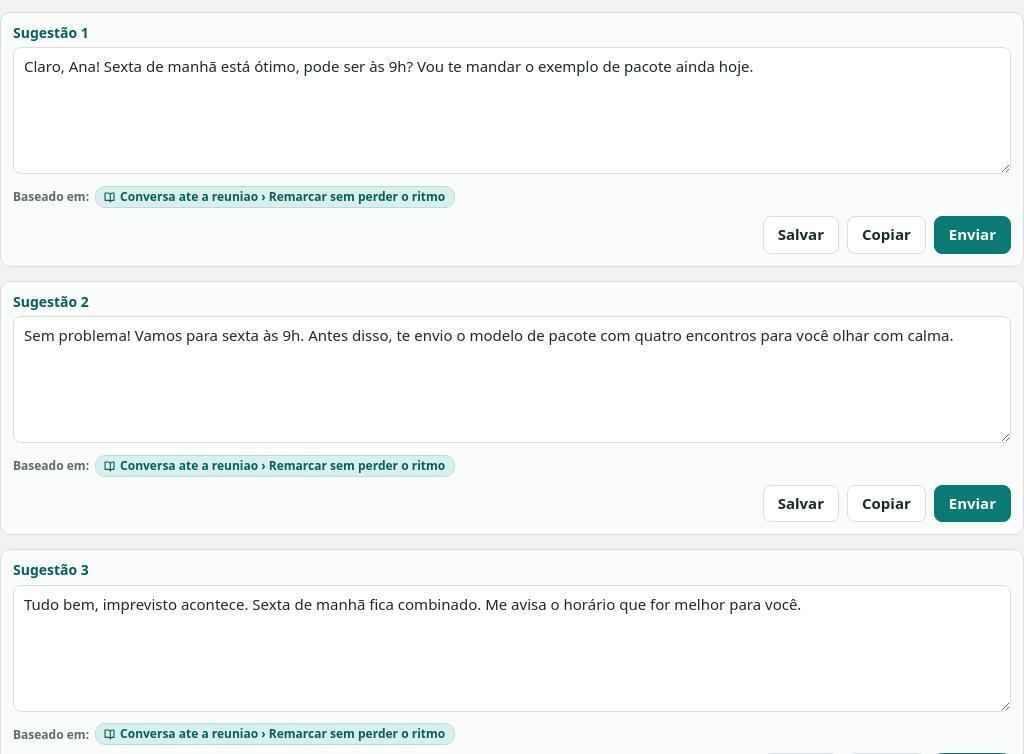
Test: Enviar (envio direto) › Ctrl+Enter repetido (ou clique duplo) envia uma vez só
Click the 1st button "Enviar": (972, 235) [934,216,1011,254]
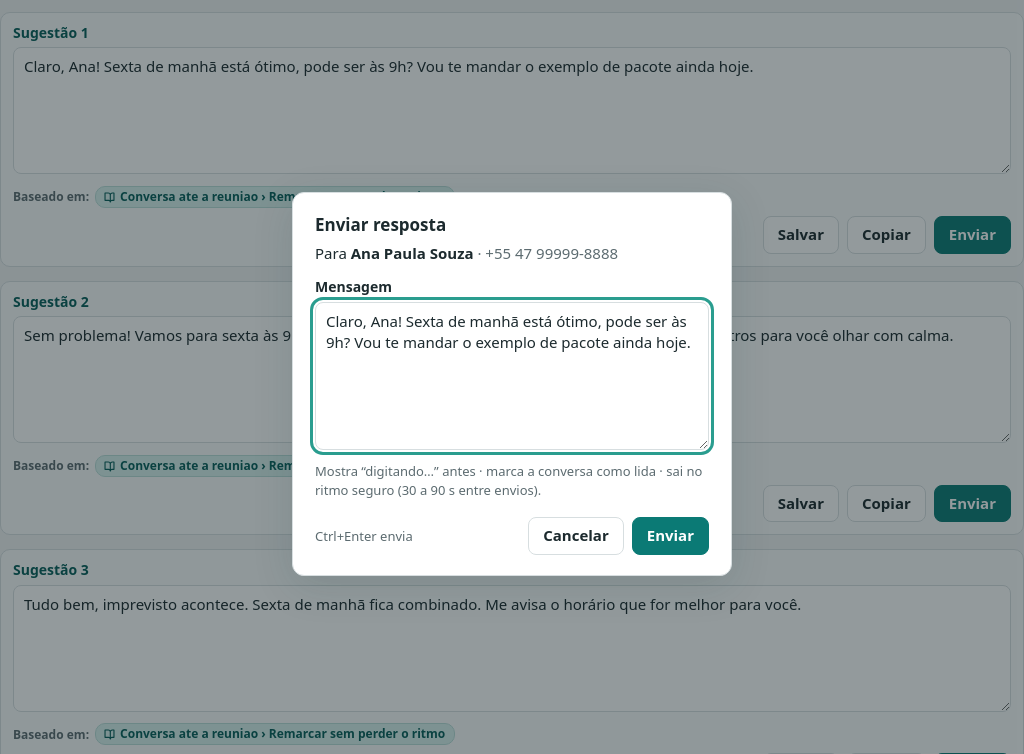
Expected: the text "Ana Paula Souza" is shown, [351,244,474,264]
Press Enter in the text box labelled "Mensagem", box [315,302,709,450]
Press Enter in the text box labelled "Mensagem", box [315,302,709,450]
Press Enter in the text box labelled "Mensagem", box [315,302,709,450]
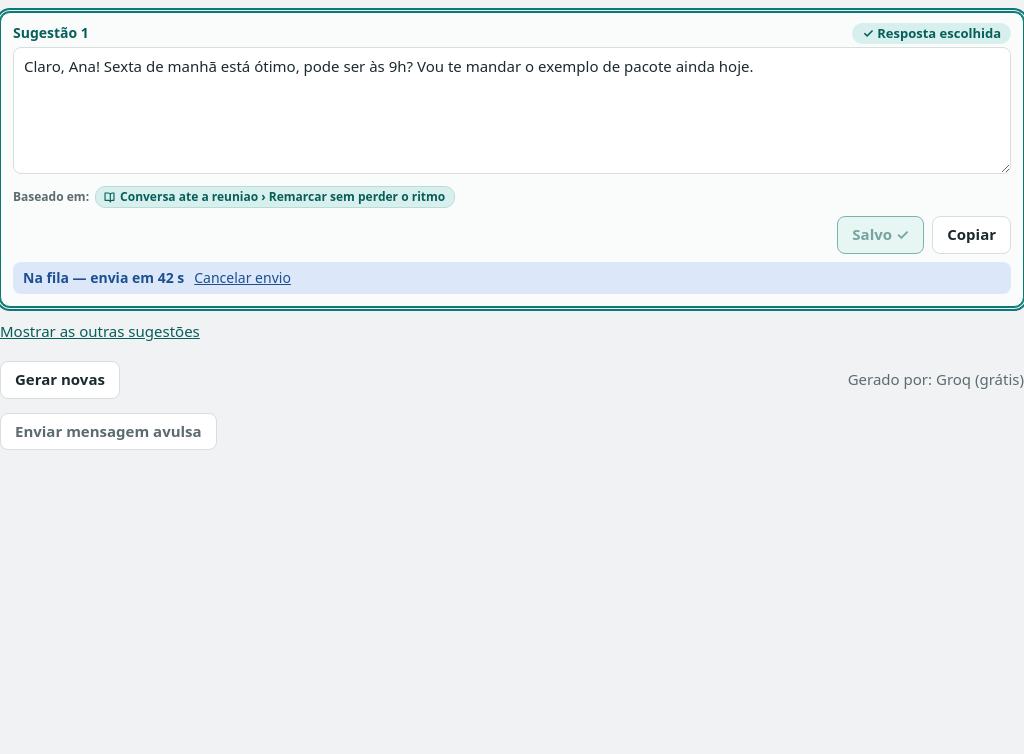
Expected: the dialog is gone
